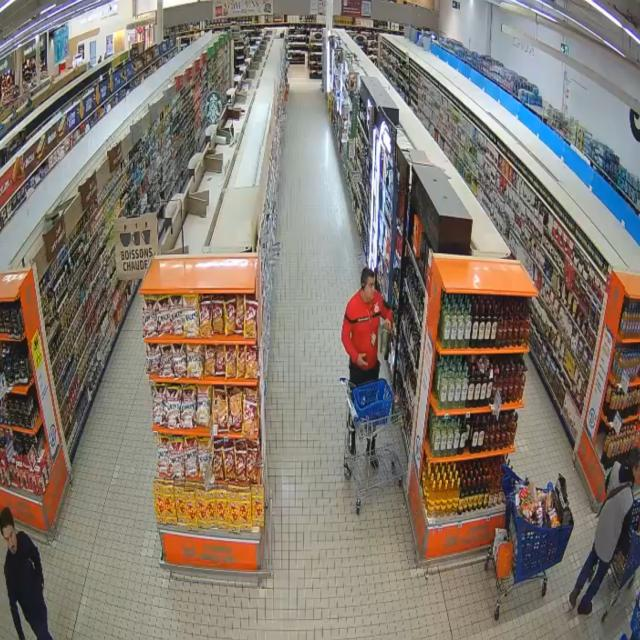article: (380, 324, 390, 355)
hands: (357, 354, 367, 367), (383, 320, 391, 330)
person: (569, 450, 639, 614), (0, 508, 51, 639), (342, 268, 392, 386)
